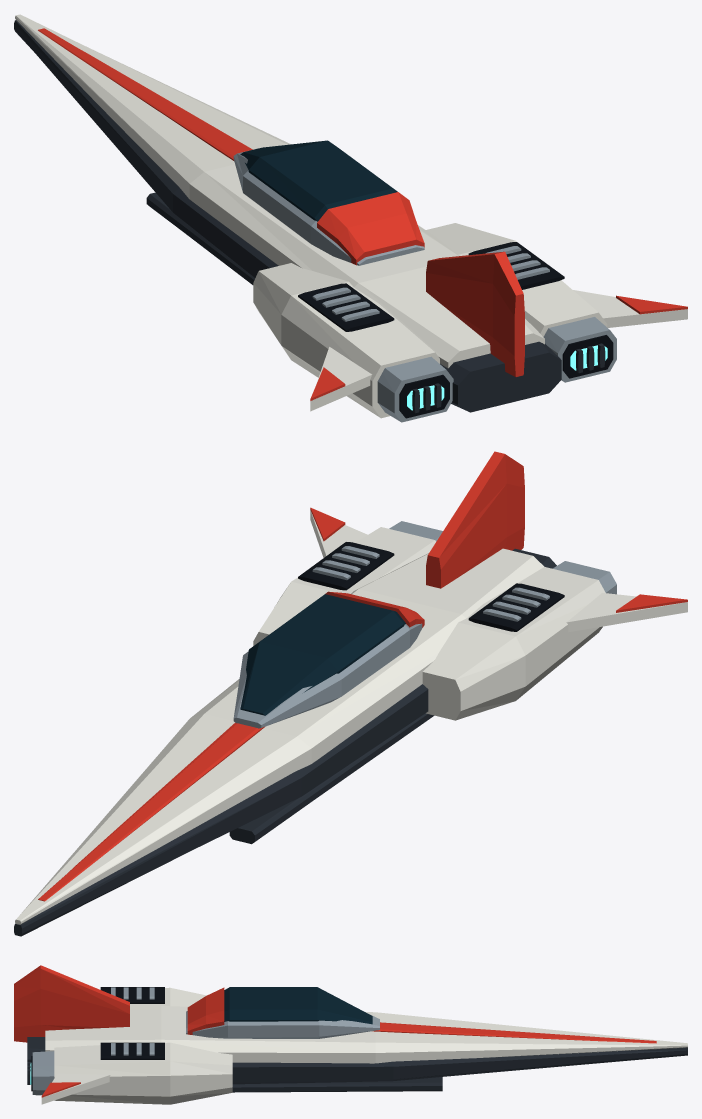
The model's file is player.glb.
3 views of the same model, one above another, from view 1: azimuth 30°, elevation 25°; view 2: azimuth 150°, elevation 25°; view 3: azimuth 270°, elevation 25° (orthographic). The views are drawn at different scales.
Parts seen in each view (by area): view 1: Team_paint_001, Secondary_paint_002, Graphite_chassis_000, Titanium_edges_003, Smoked_canopy_004, Intake_darkness_005, Thruster_cyan_006; view 2: Team_paint_001, Secondary_paint_002, Graphite_chassis_000, Smoked_canopy_004, Titanium_edges_003, Intake_darkness_005; view 3: Team_paint_001, Graphite_chassis_000, Secondary_paint_002, Titanium_edges_003, Smoked_canopy_004, Intake_darkness_005.
Boxes of the visible parts, bbox=[...] form: Team_paint_001: bbox=[15, 14, 687, 418]; Secondary_paint_002: bbox=[38, 28, 687, 400]; Graphite_chassis_000: bbox=[14, 20, 605, 413]; Titanium_edges_003: bbox=[233, 148, 616, 422]; Smoked_canopy_004: bbox=[240, 140, 397, 221]; Intake_darkness_005: bbox=[298, 242, 613, 418]; Thruster_cyan_006: bbox=[407, 345, 607, 410]; Team_paint_001: bbox=[15, 510, 687, 924]; Secondary_paint_002: bbox=[38, 451, 687, 901]; Graphite_chassis_000: bbox=[14, 548, 556, 936]; Smoked_canopy_004: bbox=[240, 594, 405, 715]; Titanium_edges_003: bbox=[233, 521, 616, 728]; Intake_darkness_005: bbox=[298, 542, 564, 631]; Team_paint_001: bbox=[41, 987, 687, 1104]; Graphite_chassis_000: bbox=[27, 1037, 687, 1092]; Secondary_paint_002: bbox=[14, 965, 656, 1097]; Titanium_edges_003: bbox=[32, 987, 379, 1095]; Smoked_canopy_004: bbox=[224, 987, 372, 1024]; Intake_darkness_005: bbox=[31, 987, 164, 1091].
Bounding box in the file's own units: 1.95 × 0.8 × 4.5.
